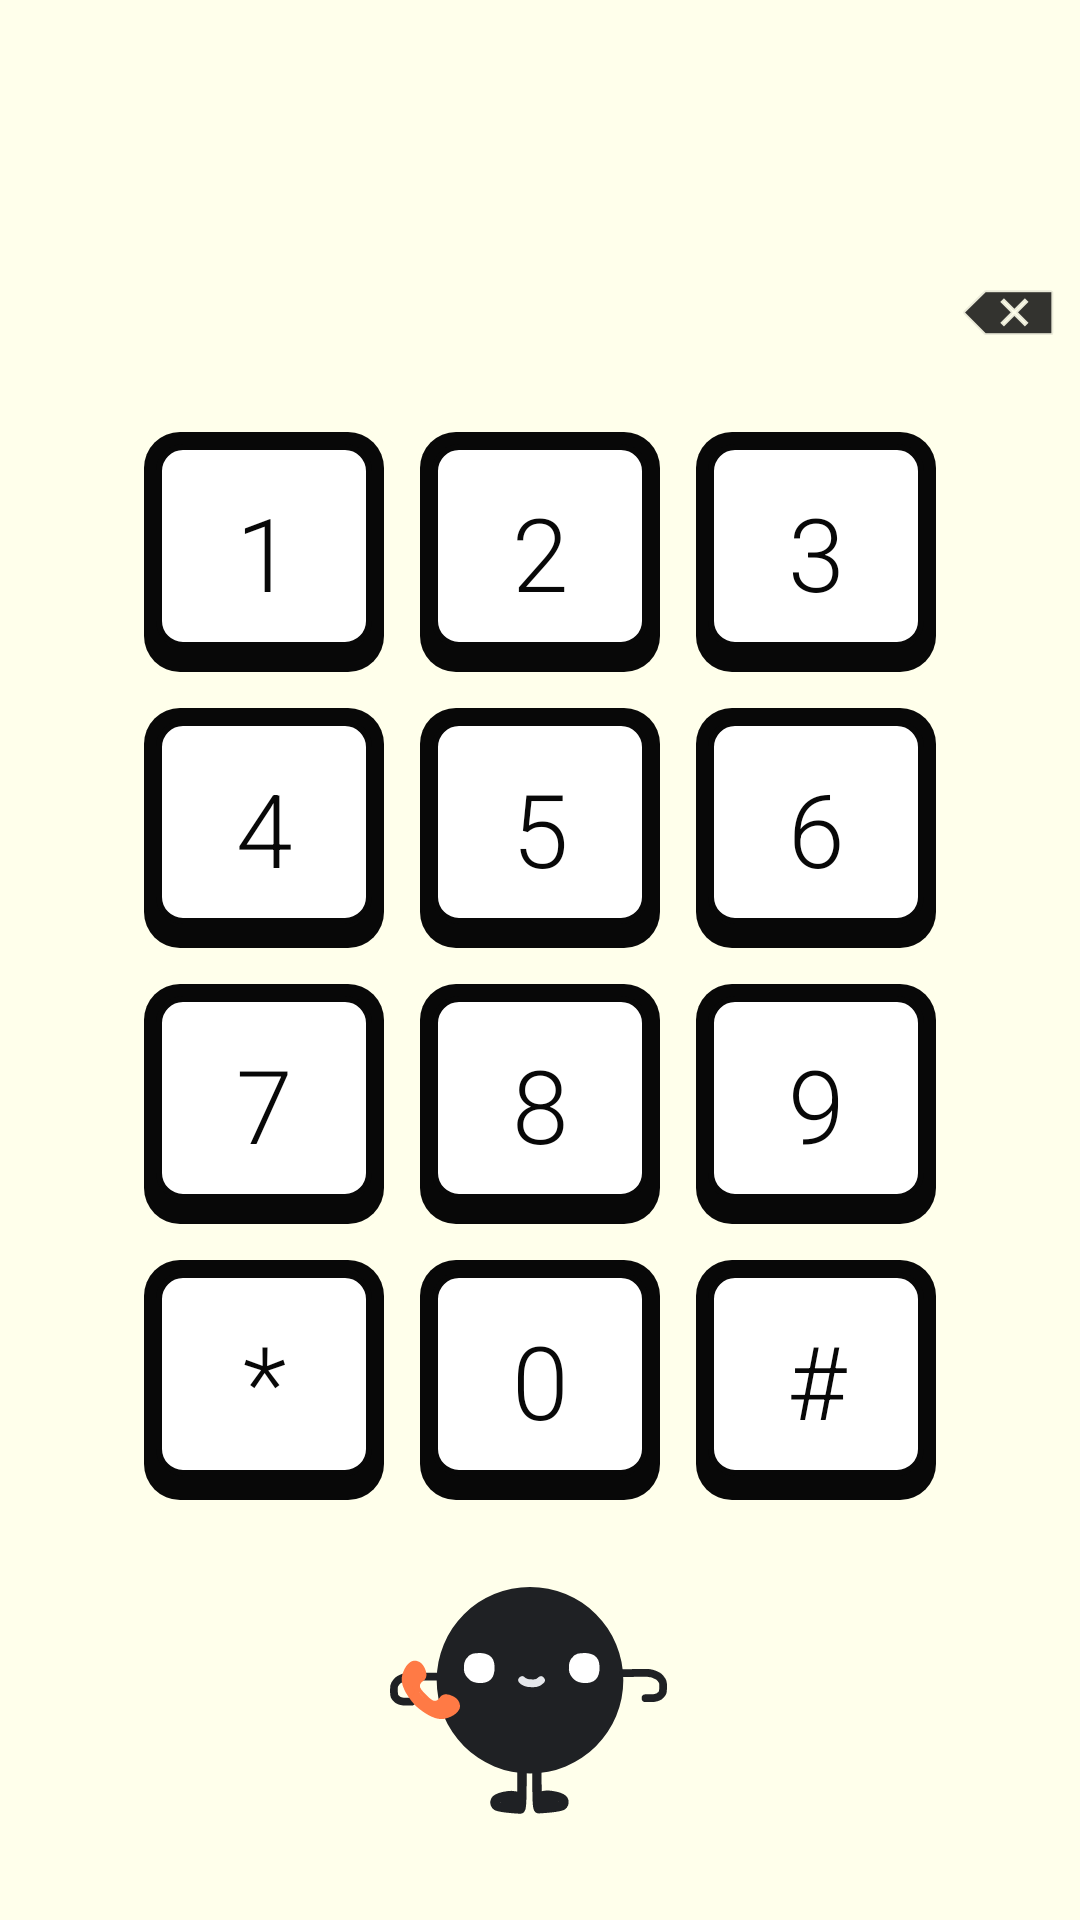

Where to tap for icons on this 1080w x 1920h app screen, as (x=x, y=y):
Backspace: (x=1008, y=313)
Call: (x=528, y=1700)
